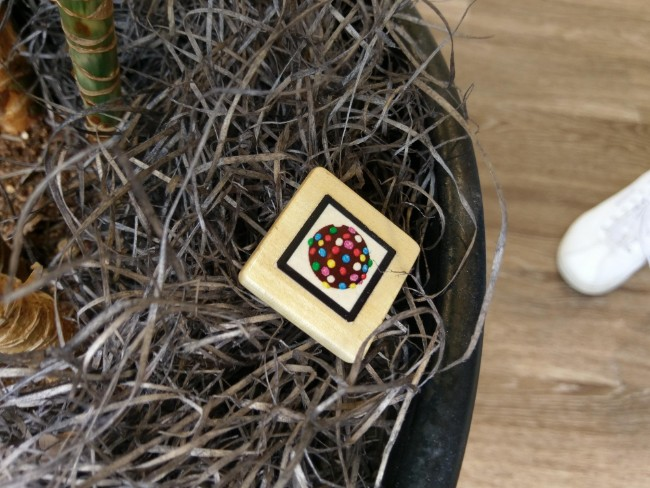cookie: (272, 194, 412, 331)
